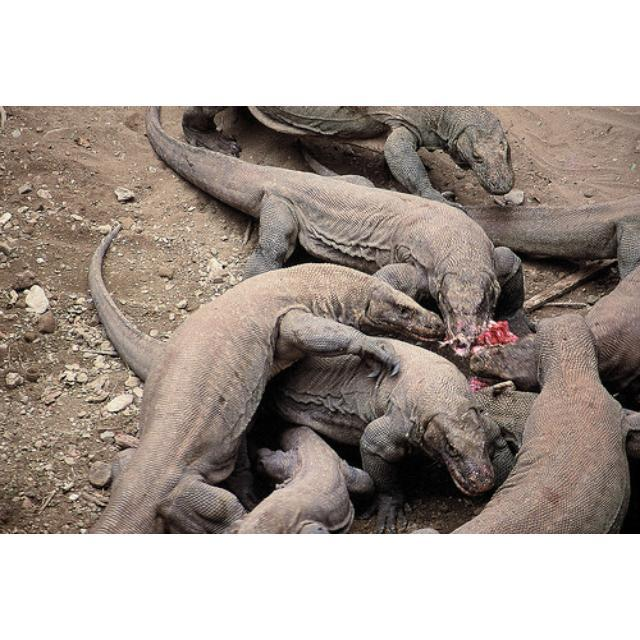KomodoDragon: (83, 221, 513, 497), (141, 108, 523, 362), (89, 260, 443, 532), (449, 314, 637, 532), (234, 419, 373, 531)
